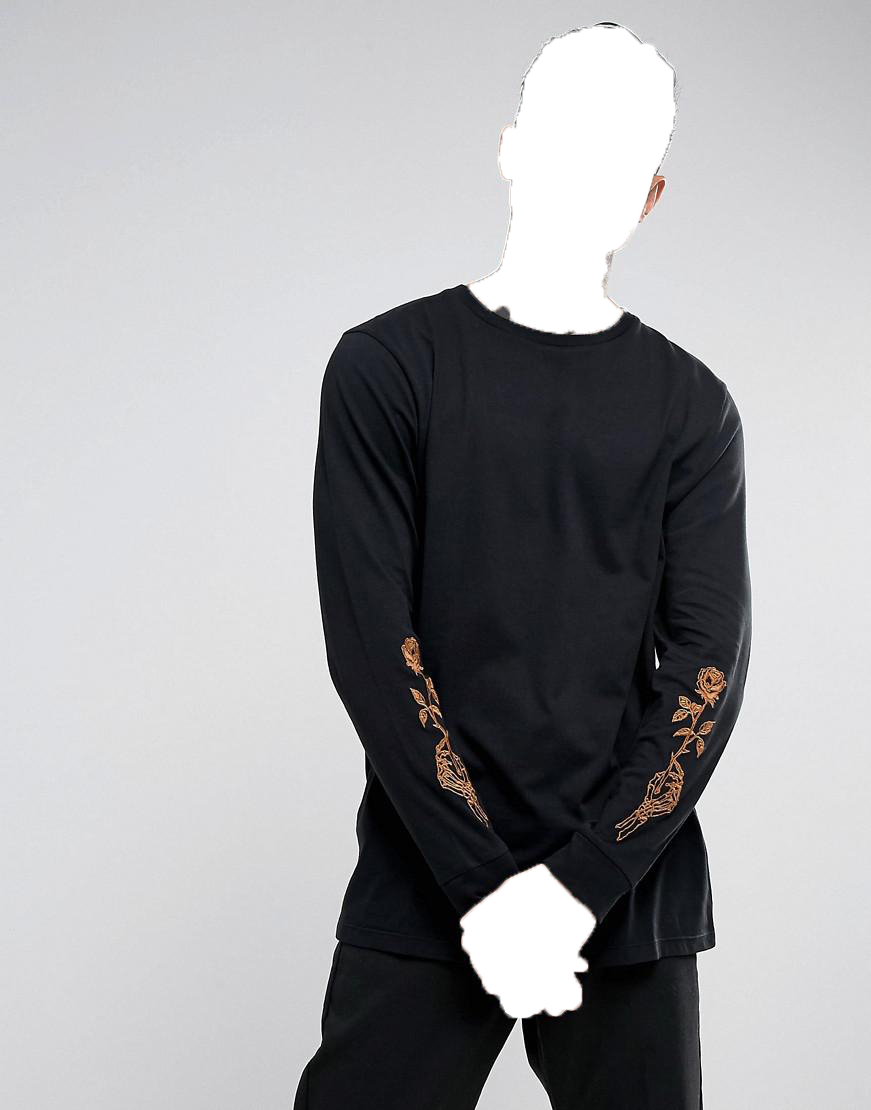teeshirt: (303, 276, 751, 985)
